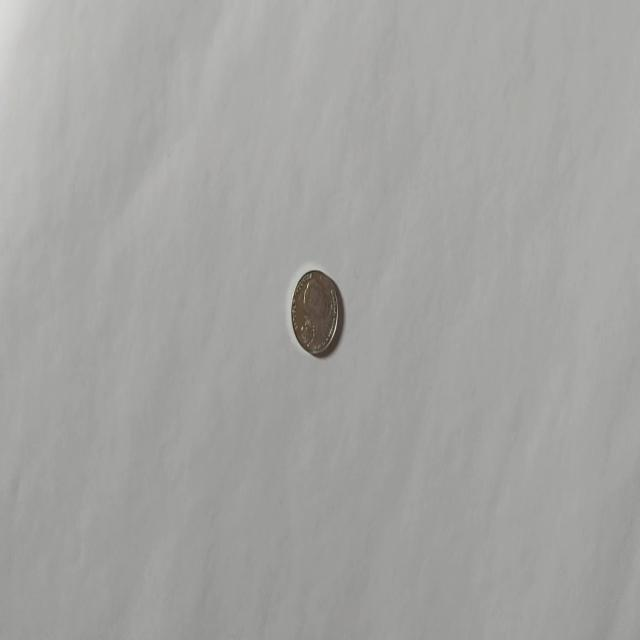seratus rupiah: (290, 268, 339, 356)
